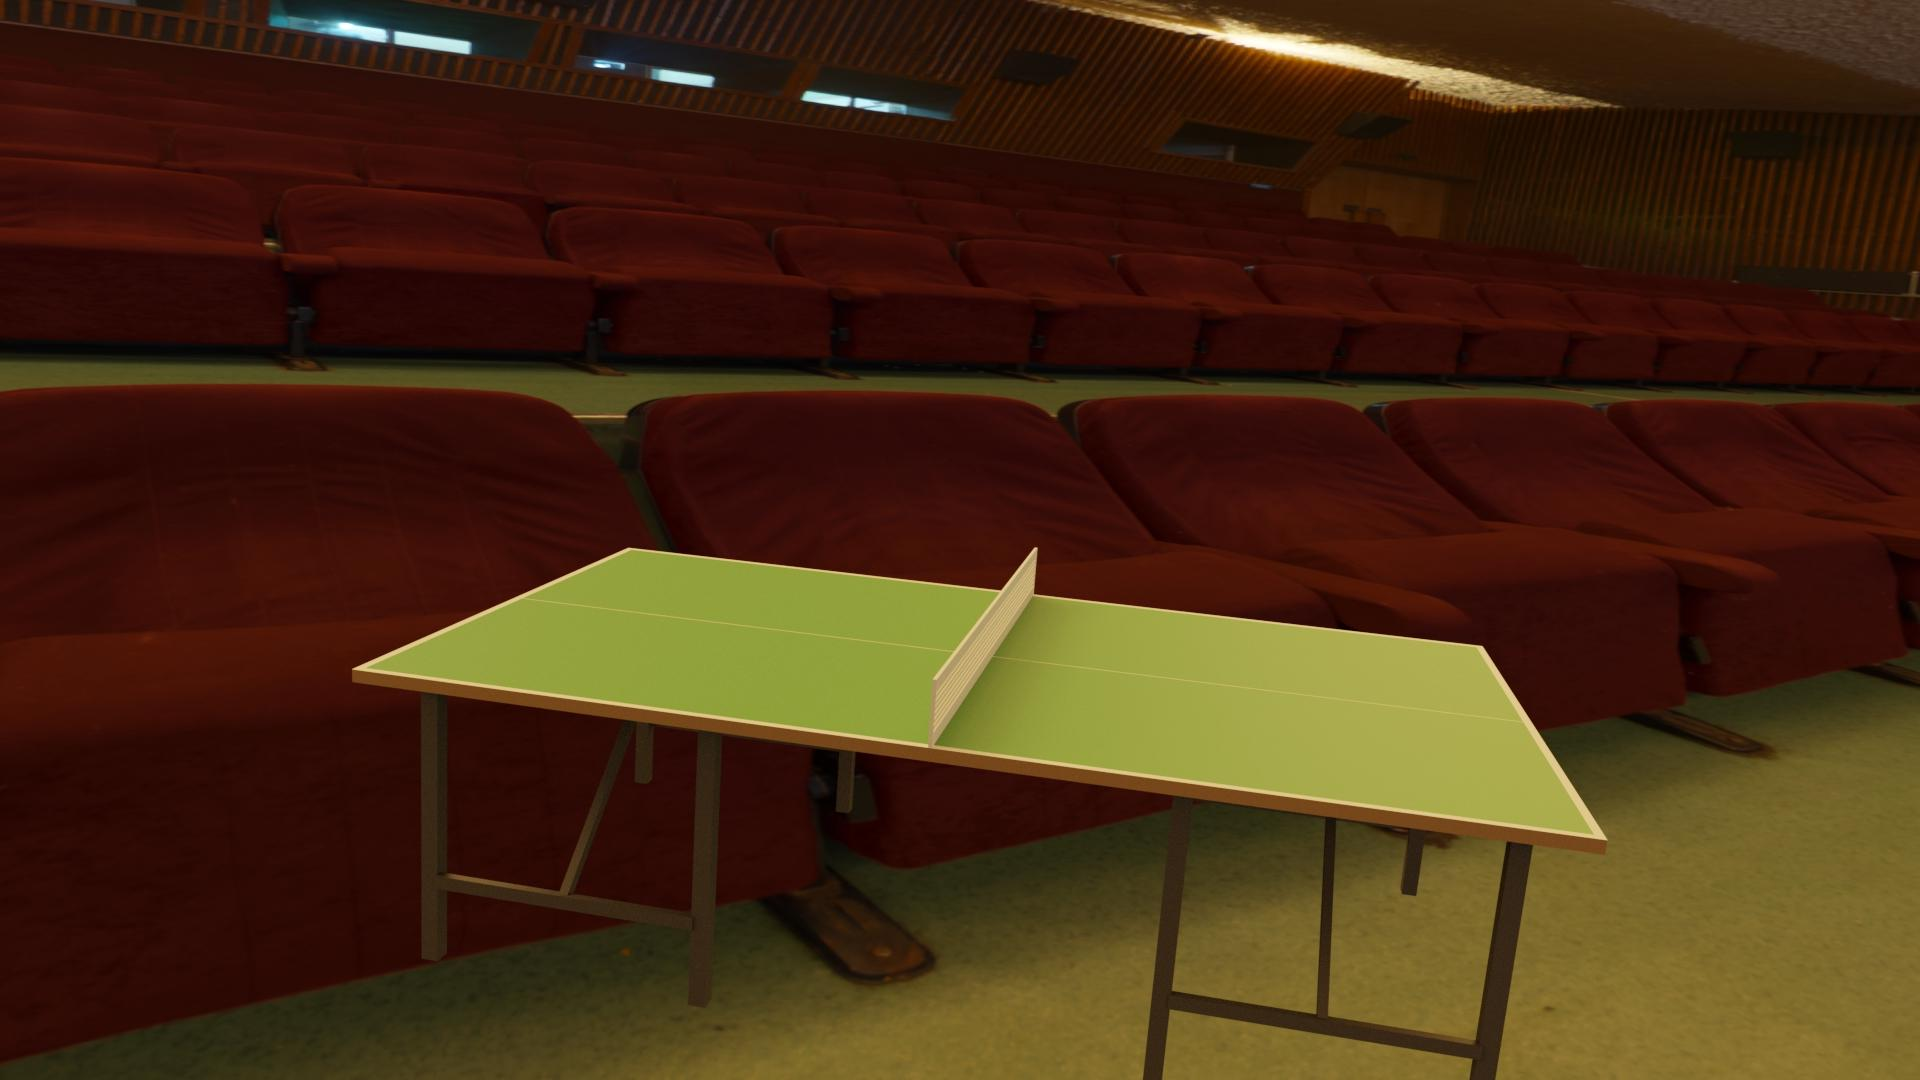table: (365, 550, 1594, 835)
